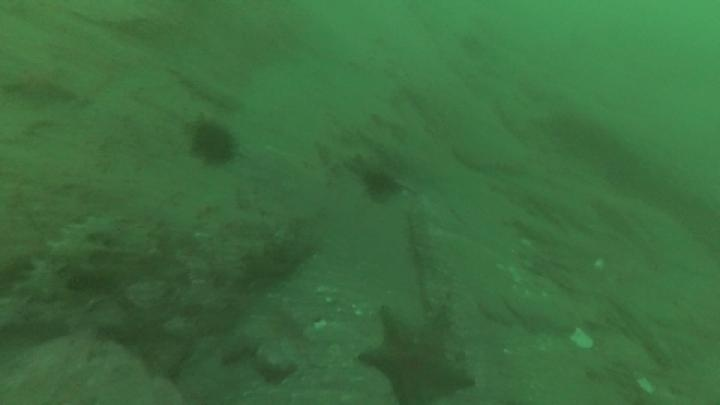echinus: (189, 118, 239, 168)
holothurian: (11, 213, 119, 306)
starfish: (356, 303, 477, 405), (1, 58, 80, 108)
